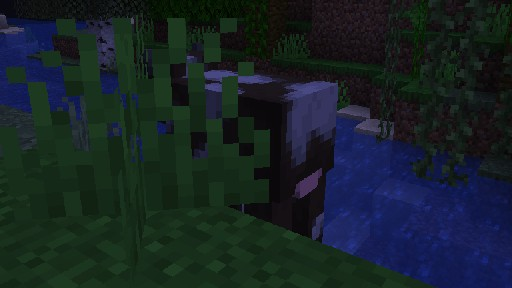cow: (141, 41, 338, 288)
